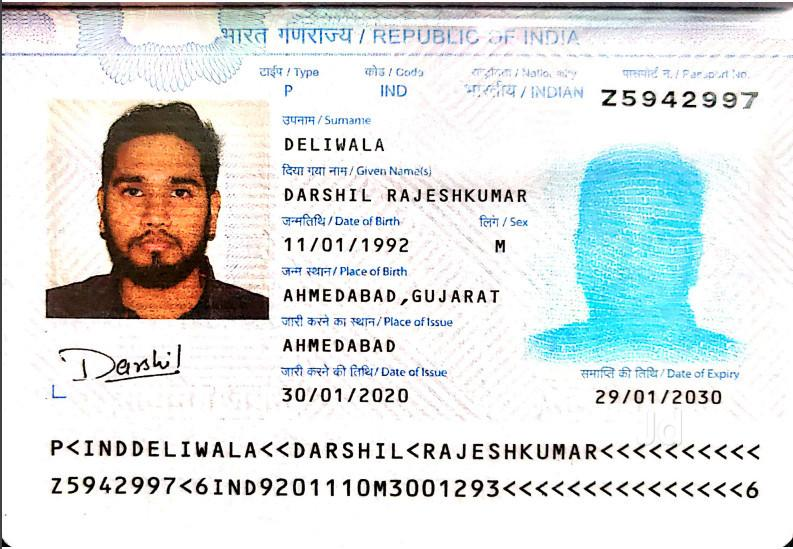DOB: (282, 229, 417, 258)
Surname: (276, 129, 394, 159)
country_code: (374, 83, 416, 104)
date_of_expiry: (586, 381, 730, 412)
date_of_issue: (273, 378, 412, 410)
details: (45, 427, 768, 521)
name: (276, 179, 533, 211)
nationality: (460, 75, 591, 107)
passport_no: (597, 77, 773, 121)
photo: (41, 89, 273, 323)
place_of_birth: (280, 280, 513, 311)
place_of_issue: (272, 333, 415, 360)
sex: (487, 231, 520, 262)
sign: (57, 337, 191, 389)
type: (277, 79, 301, 100)
